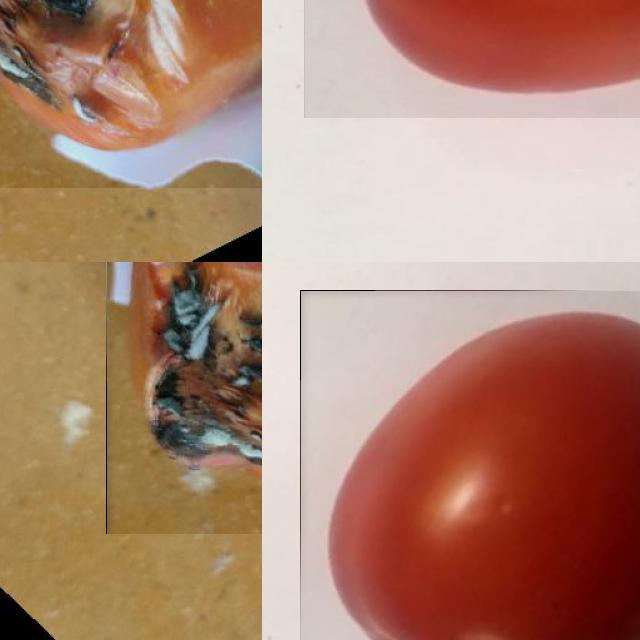Fresh Tomato: (300, 290, 640, 640), (304, 0, 640, 118)
Rotten Tomato: (0, 0, 262, 188), (106, 262, 262, 534)
